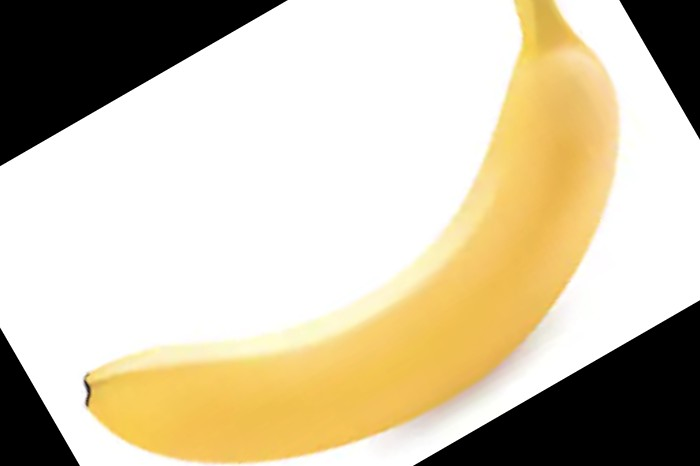fresh_banana: (84, 4, 618, 463)
